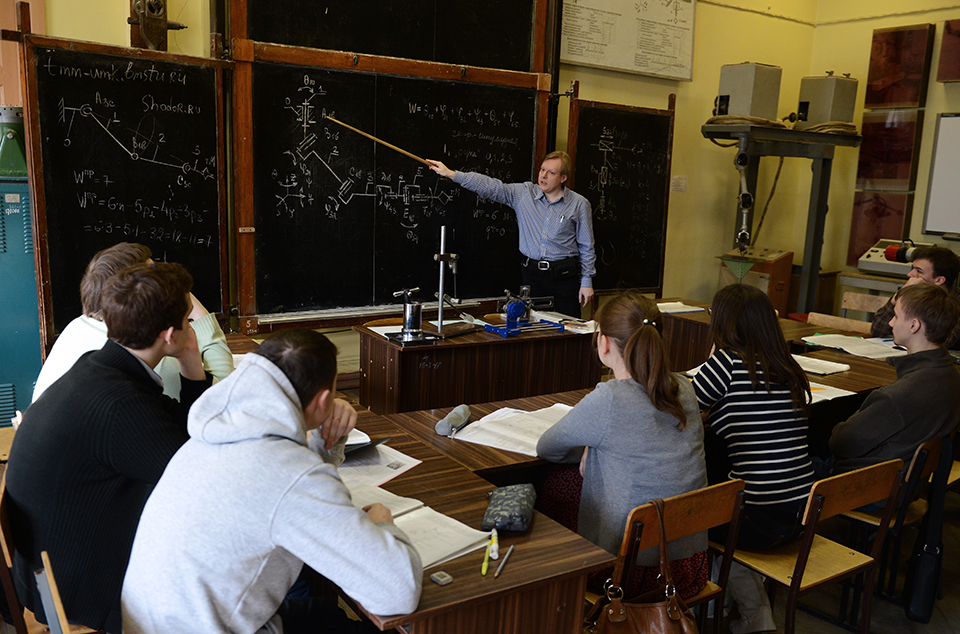students: (119, 327, 423, 633), (2, 263, 213, 585), (536, 292, 710, 594), (691, 283, 817, 554), (30, 246, 234, 405), (425, 150, 594, 320), (829, 284, 956, 476), (870, 244, 959, 338)
